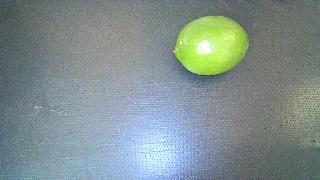EXPORTACION: (173, 16, 249, 75)
